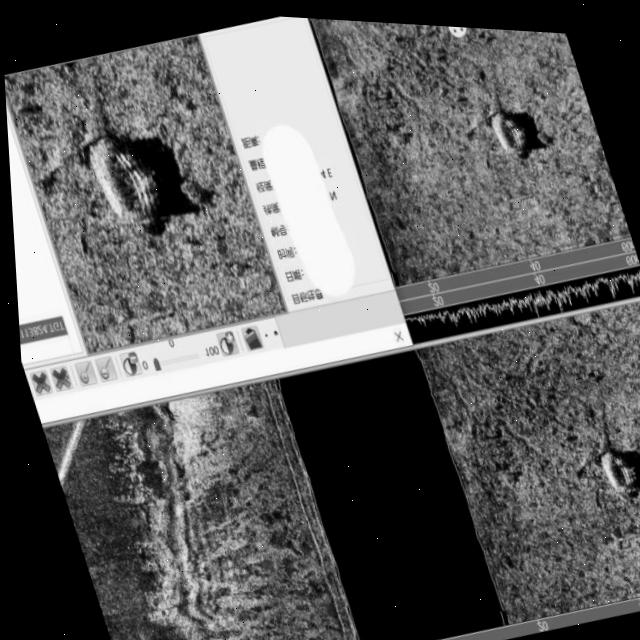shipwreck: (73, 120, 171, 238), (477, 91, 538, 164), (585, 435, 640, 500)
